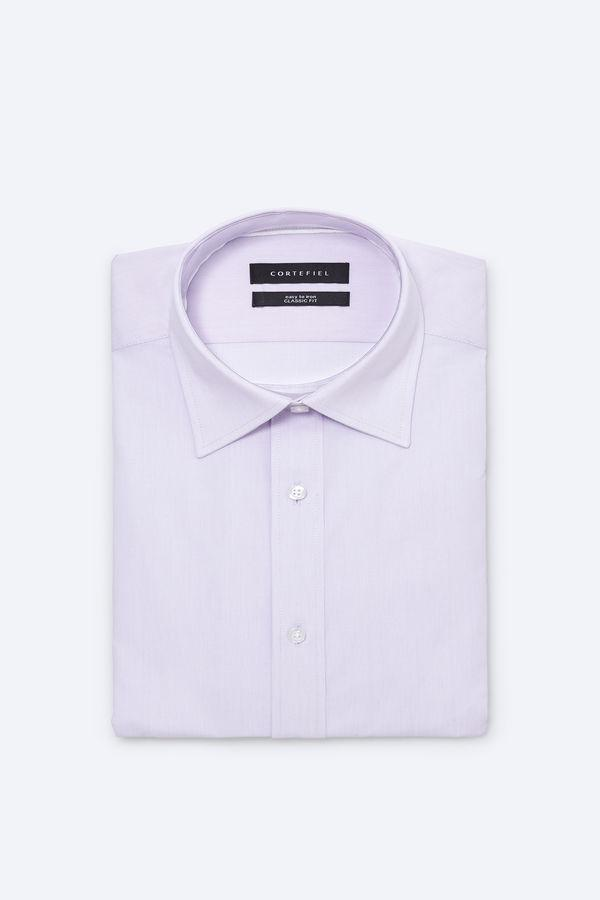teeshirt: (96, 215, 500, 747)
